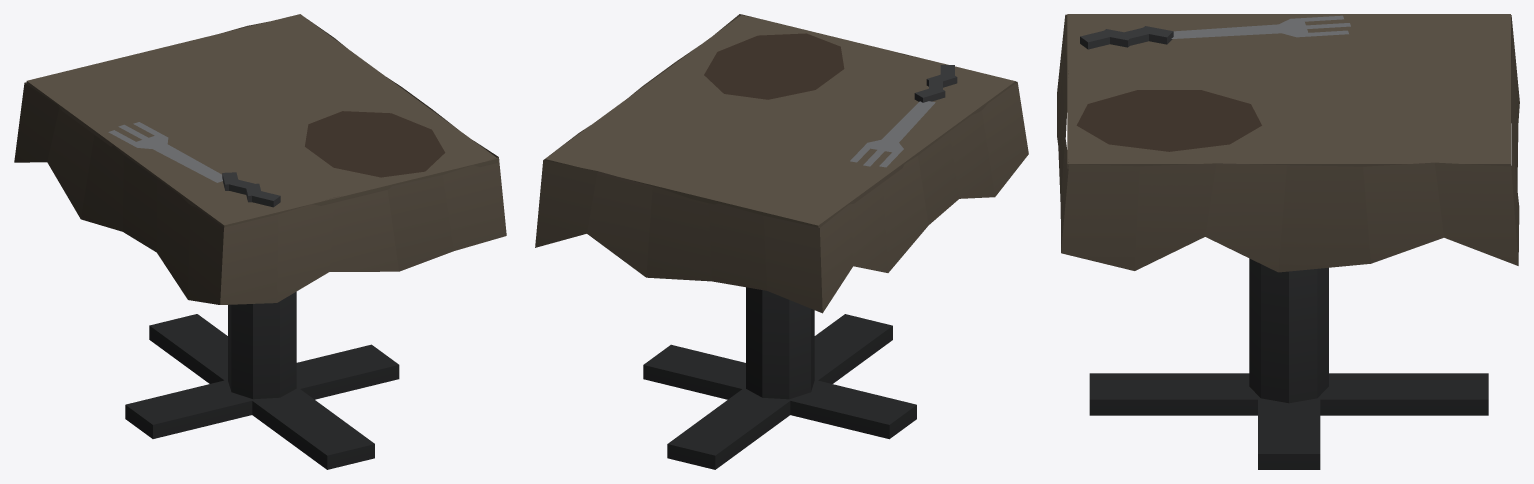
File: table.glb
The picture shows the model from 3 angles, left to right: view 1: azimuth 30°, elevation 25°; view 2: azimuth 150°, elevation 25°; view 3: azimuth 270°, elevation 25°; orthographic projection. The views are drawn at different scales.
Visible parts, largest first — view 1: Table; view 2: Table; view 3: Table.
Boxes of the visible parts, box(x1,y1,x2,y2) form: Table: box(14, 14, 506, 469); Table: box(535, 14, 1028, 469); Table: box(1057, 14, 1519, 469).
Size of the model in its own units: 0.8508 by 0.799 by 1.04.
